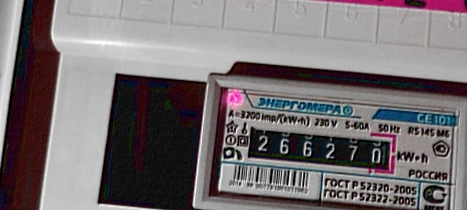0: (369, 146, 383, 164)
2: (255, 132, 270, 152), (324, 140, 336, 159)
6: (278, 136, 291, 155), (301, 139, 314, 158)
7: (346, 142, 359, 161)
screen: (236, 116, 403, 180)
